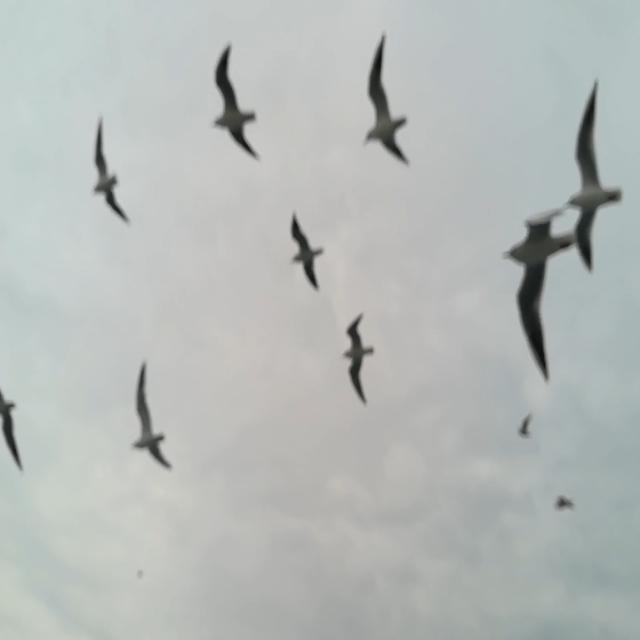bird: (499, 200, 577, 386), (563, 80, 624, 272), (364, 33, 411, 170), (212, 41, 260, 162), (130, 358, 172, 470), (92, 116, 134, 225), (339, 309, 376, 407), (288, 212, 324, 294), (0, 382, 26, 476), (550, 489, 579, 520), (515, 406, 534, 441), (135, 563, 148, 582)
